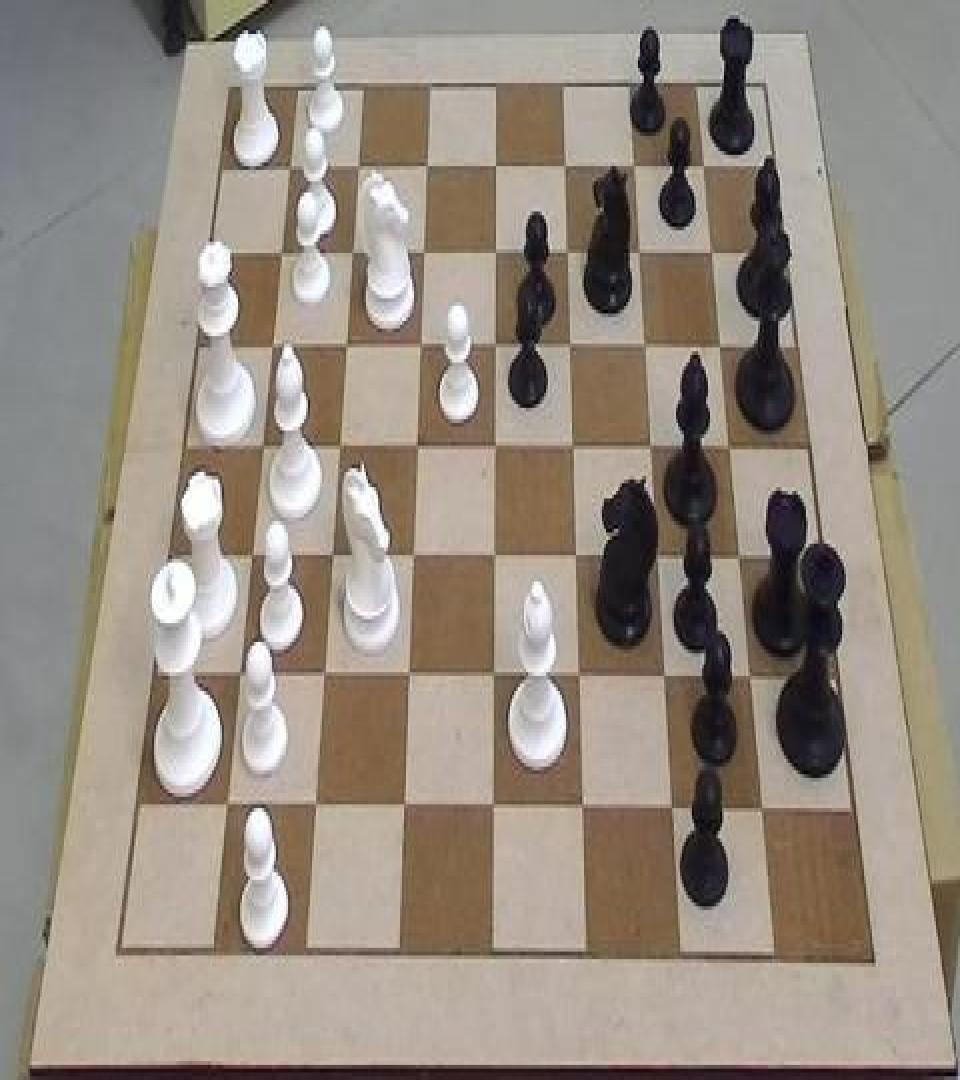xcorner: (695, 147, 715, 185), (625, 147, 645, 185), (555, 147, 575, 185), (486, 147, 506, 185), (417, 147, 437, 185), (348, 147, 368, 185), (279, 147, 299, 185), (703, 234, 723, 272), (630, 234, 650, 272), (558, 232, 578, 270), (485, 232, 505, 270), (414, 232, 434, 270), (342, 232, 362, 270), (271, 232, 291, 270), (711, 326, 731, 364), (636, 326, 656, 364), (560, 326, 580, 364), (485, 324, 505, 362), (410, 324, 430, 362), (336, 324, 356, 362), (262, 324, 282, 362), (720, 428, 740, 466), (642, 428, 662, 466), (563, 426, 583, 464), (485, 426, 505, 464), (407, 424, 427, 462), (329, 424, 349, 462), (252, 423, 272, 461), (730, 538, 750, 576), (648, 538, 668, 576), (566, 536, 586, 574), (484, 536, 504, 574), (403, 534, 423, 572), (322, 534, 342, 572), (241, 532, 261, 570), (741, 659, 761, 697), (655, 657, 675, 695), (569, 657, 589, 695), (484, 655, 504, 693), (399, 653, 419, 691), (314, 653, 334, 691), (230, 652, 250, 690), (753, 791, 773, 829), (663, 789, 683, 827), (573, 787, 593, 825), (483, 786, 503, 824), (394, 784, 414, 822), (305, 784, 325, 822), (217, 782, 237, 820)
